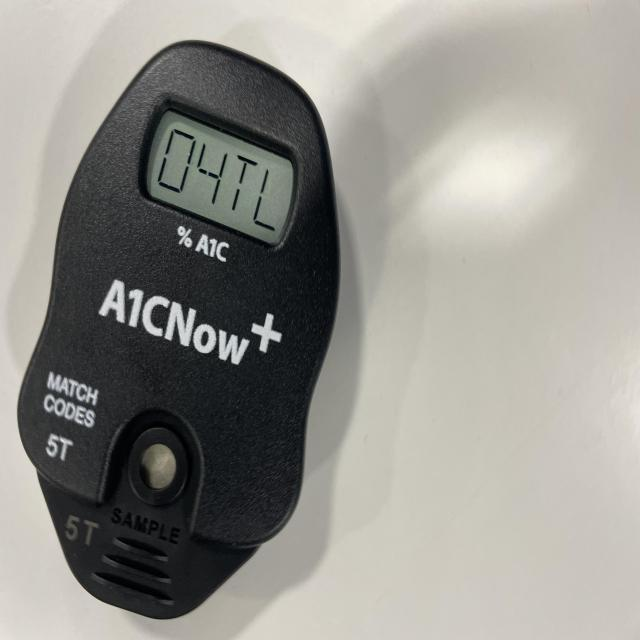hba1c: (15, 40, 342, 622)
